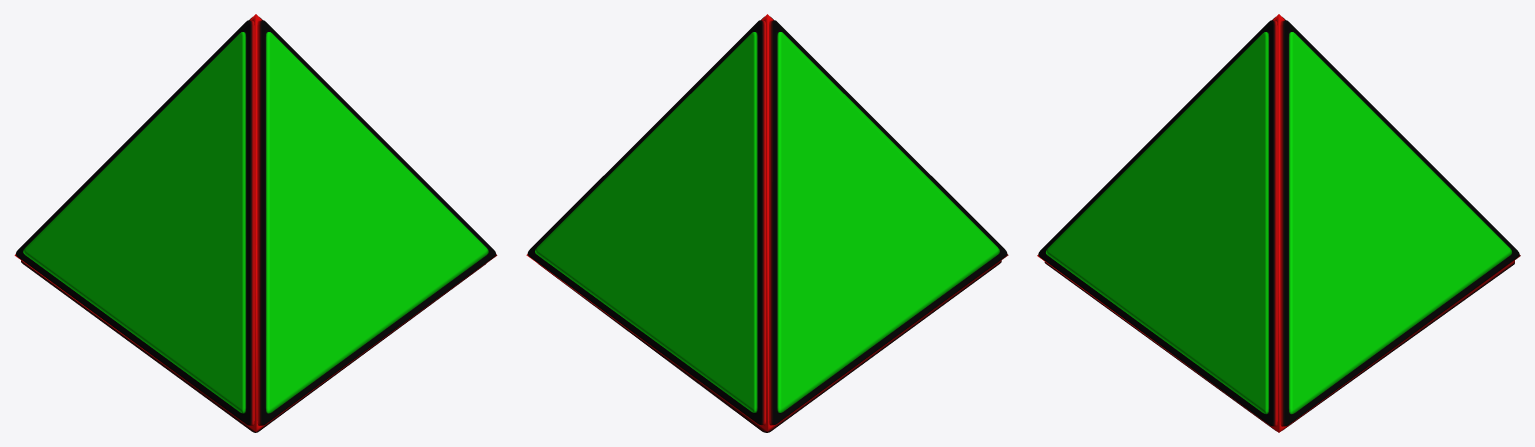
3 renders of one model, left to right at view 1: azimuth 30°, elevation 25°; view 2: azimuth 150°, elevation 25°; view 3: azimuth 270°, elevation 25°, orthographic.
Visible parts, largest first — view 1: SM_Pyramid_01; view 2: SM_Pyramid_01; view 3: SM_Pyramid_01.
Part boxes in pixels (x1,y1,x2,y2): SM_Pyramid_01: [14, 14, 497, 432]; SM_Pyramid_01: [526, 14, 1008, 432]; SM_Pyramid_01: [1037, 14, 1520, 432].
Size of what is drawn, in the model's own units: 134 by 153 by 108.
